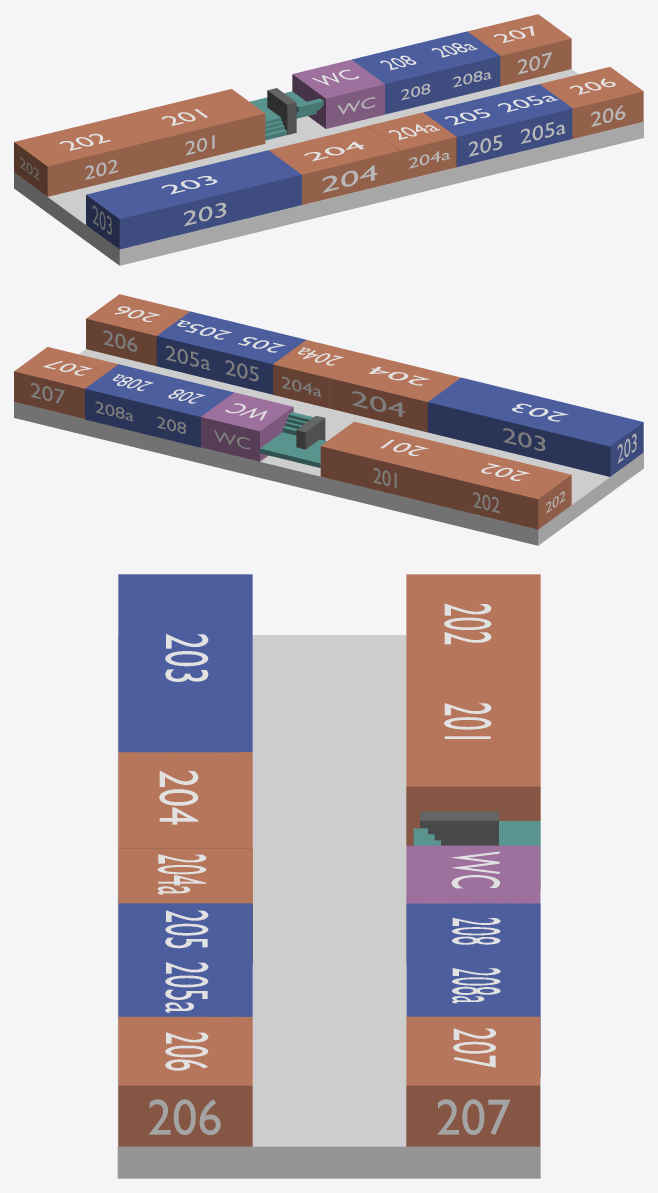
Rendered from NastavniBlokUcionice3.glb.
3 views of the same model, one above another, from view 1: azimuth 30°, elevation 25°; view 2: azimuth 150°, elevation 25°; view 3: azimuth 270°, elevation 25° (orthographic). The views are drawn at different scales.
Parts seen in each view (by area): view 1: Cube, 016.001, 018, 018.001, 017, 016.005, 016.004, WC, Svecana, Svecana.001, 016.003, 016.002 (+3 smaller); view 2: Cube, 016.001, 018, 018.001, 017, 016.005, 016.004, WC, Svecana, 016.003, Svecana.001, 016.002 (+5 smaller); view 3: Cube, 016.001, 018.001, 016.005, 016.004, 018, 017, WC, Svecana, Svecana.001, 016.003, 016.002 (+11 smaller).
Part boxes in pixels (left/top/right/bottom): Cube: left=14, top=69, right=643, bottom=265; 016.001: left=86, top=150, right=301, bottom=249; 018: left=14, top=116, right=154, bottom=196; 018.001: left=121, top=89, right=265, bottom=170; 017: left=268, top=126, right=400, bottom=204; 016.005: left=467, top=14, right=571, bottom=86; 016.004: left=539, top=67, right=643, bottom=138; WC: left=292, top=59, right=384, bottom=128; Svecana: left=352, top=45, right=443, bottom=114; Svecana.001: left=409, top=31, right=500, bottom=100; 016.003: left=480, top=84, right=572, bottom=153; 016.002: left=423, top=98, right=513, bottom=167; Cube: left=14, top=349, right=643, bottom=545; 016.001: left=427, top=377, right=643, bottom=476; 018: left=431, top=448, right=571, bottom=529; 018.001: left=320, top=421, right=464, bottom=503; 017: left=329, top=353, right=460, bottom=432; 016.005: left=14, top=347, right=118, bottom=418; 016.004: left=86, top=294, right=189, bottom=366; WC: left=201, top=392, right=293, bottom=461; Svecana: left=142, top=378, right=233, bottom=447; 016.003: left=156, top=311, right=248, bottom=380; Svecana.001: left=85, top=364, right=176, bottom=433; 016.002: left=215, top=326, right=305, bottom=394; Cube: left=117, top=635, right=540, bottom=1178; 016.001: left=118, top=574, right=252, bottom=752; 018.001: left=406, top=679, right=540, bottom=845; 016.005: left=406, top=1016, right=540, bottom=1146; 016.004: left=118, top=1016, right=252, bottom=1146; 018: left=406, top=574, right=540, bottom=678; 017: left=118, top=752, right=252, bottom=902; WC: left=406, top=845, right=540, bottom=963; Svecana: left=406, top=903, right=540, bottom=960; Svecana.001: left=406, top=960, right=540, bottom=1076; 016.003: left=118, top=959, right=252, bottom=1016; 016.002: left=118, top=903, right=252, bottom=959.
Bounding box in the file's own units: 36.83 × 3.19 × 12.91.
